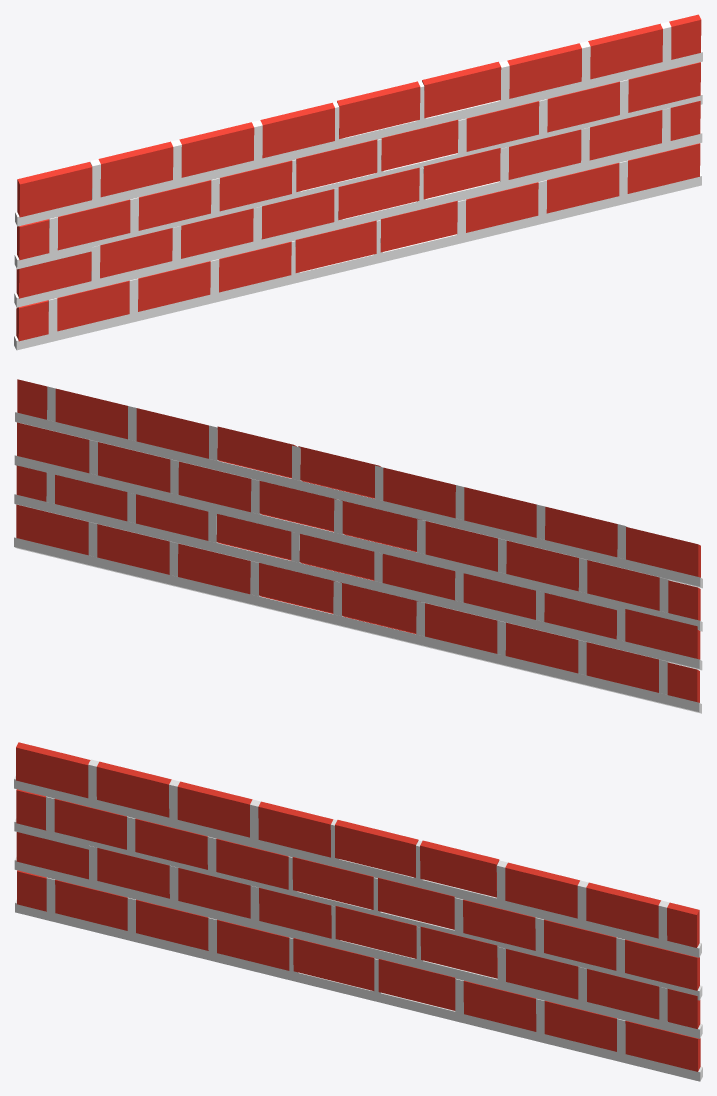
File: Tutorial_brickwall.fbx
The picture shows the model from 3 angles, top to bottom: view 1: azimuth 30°, elevation 25°; view 2: azimuth 150°, elevation 25°; view 3: azimuth 330°, elevation 25°; orthographic projection.
Visible parts, largest first — view 1: group1872417371; view 2: group1872417371; view 3: group1872417371.
Part boxes in pixels (x1,y1,x2,y2): group1872417371: (14,14,702,350); group1872417371: (14,379,702,713); group1872417371: (14,742,702,1081).
Bounding box in the file's own units: 1218 × 293 × 12.66.
